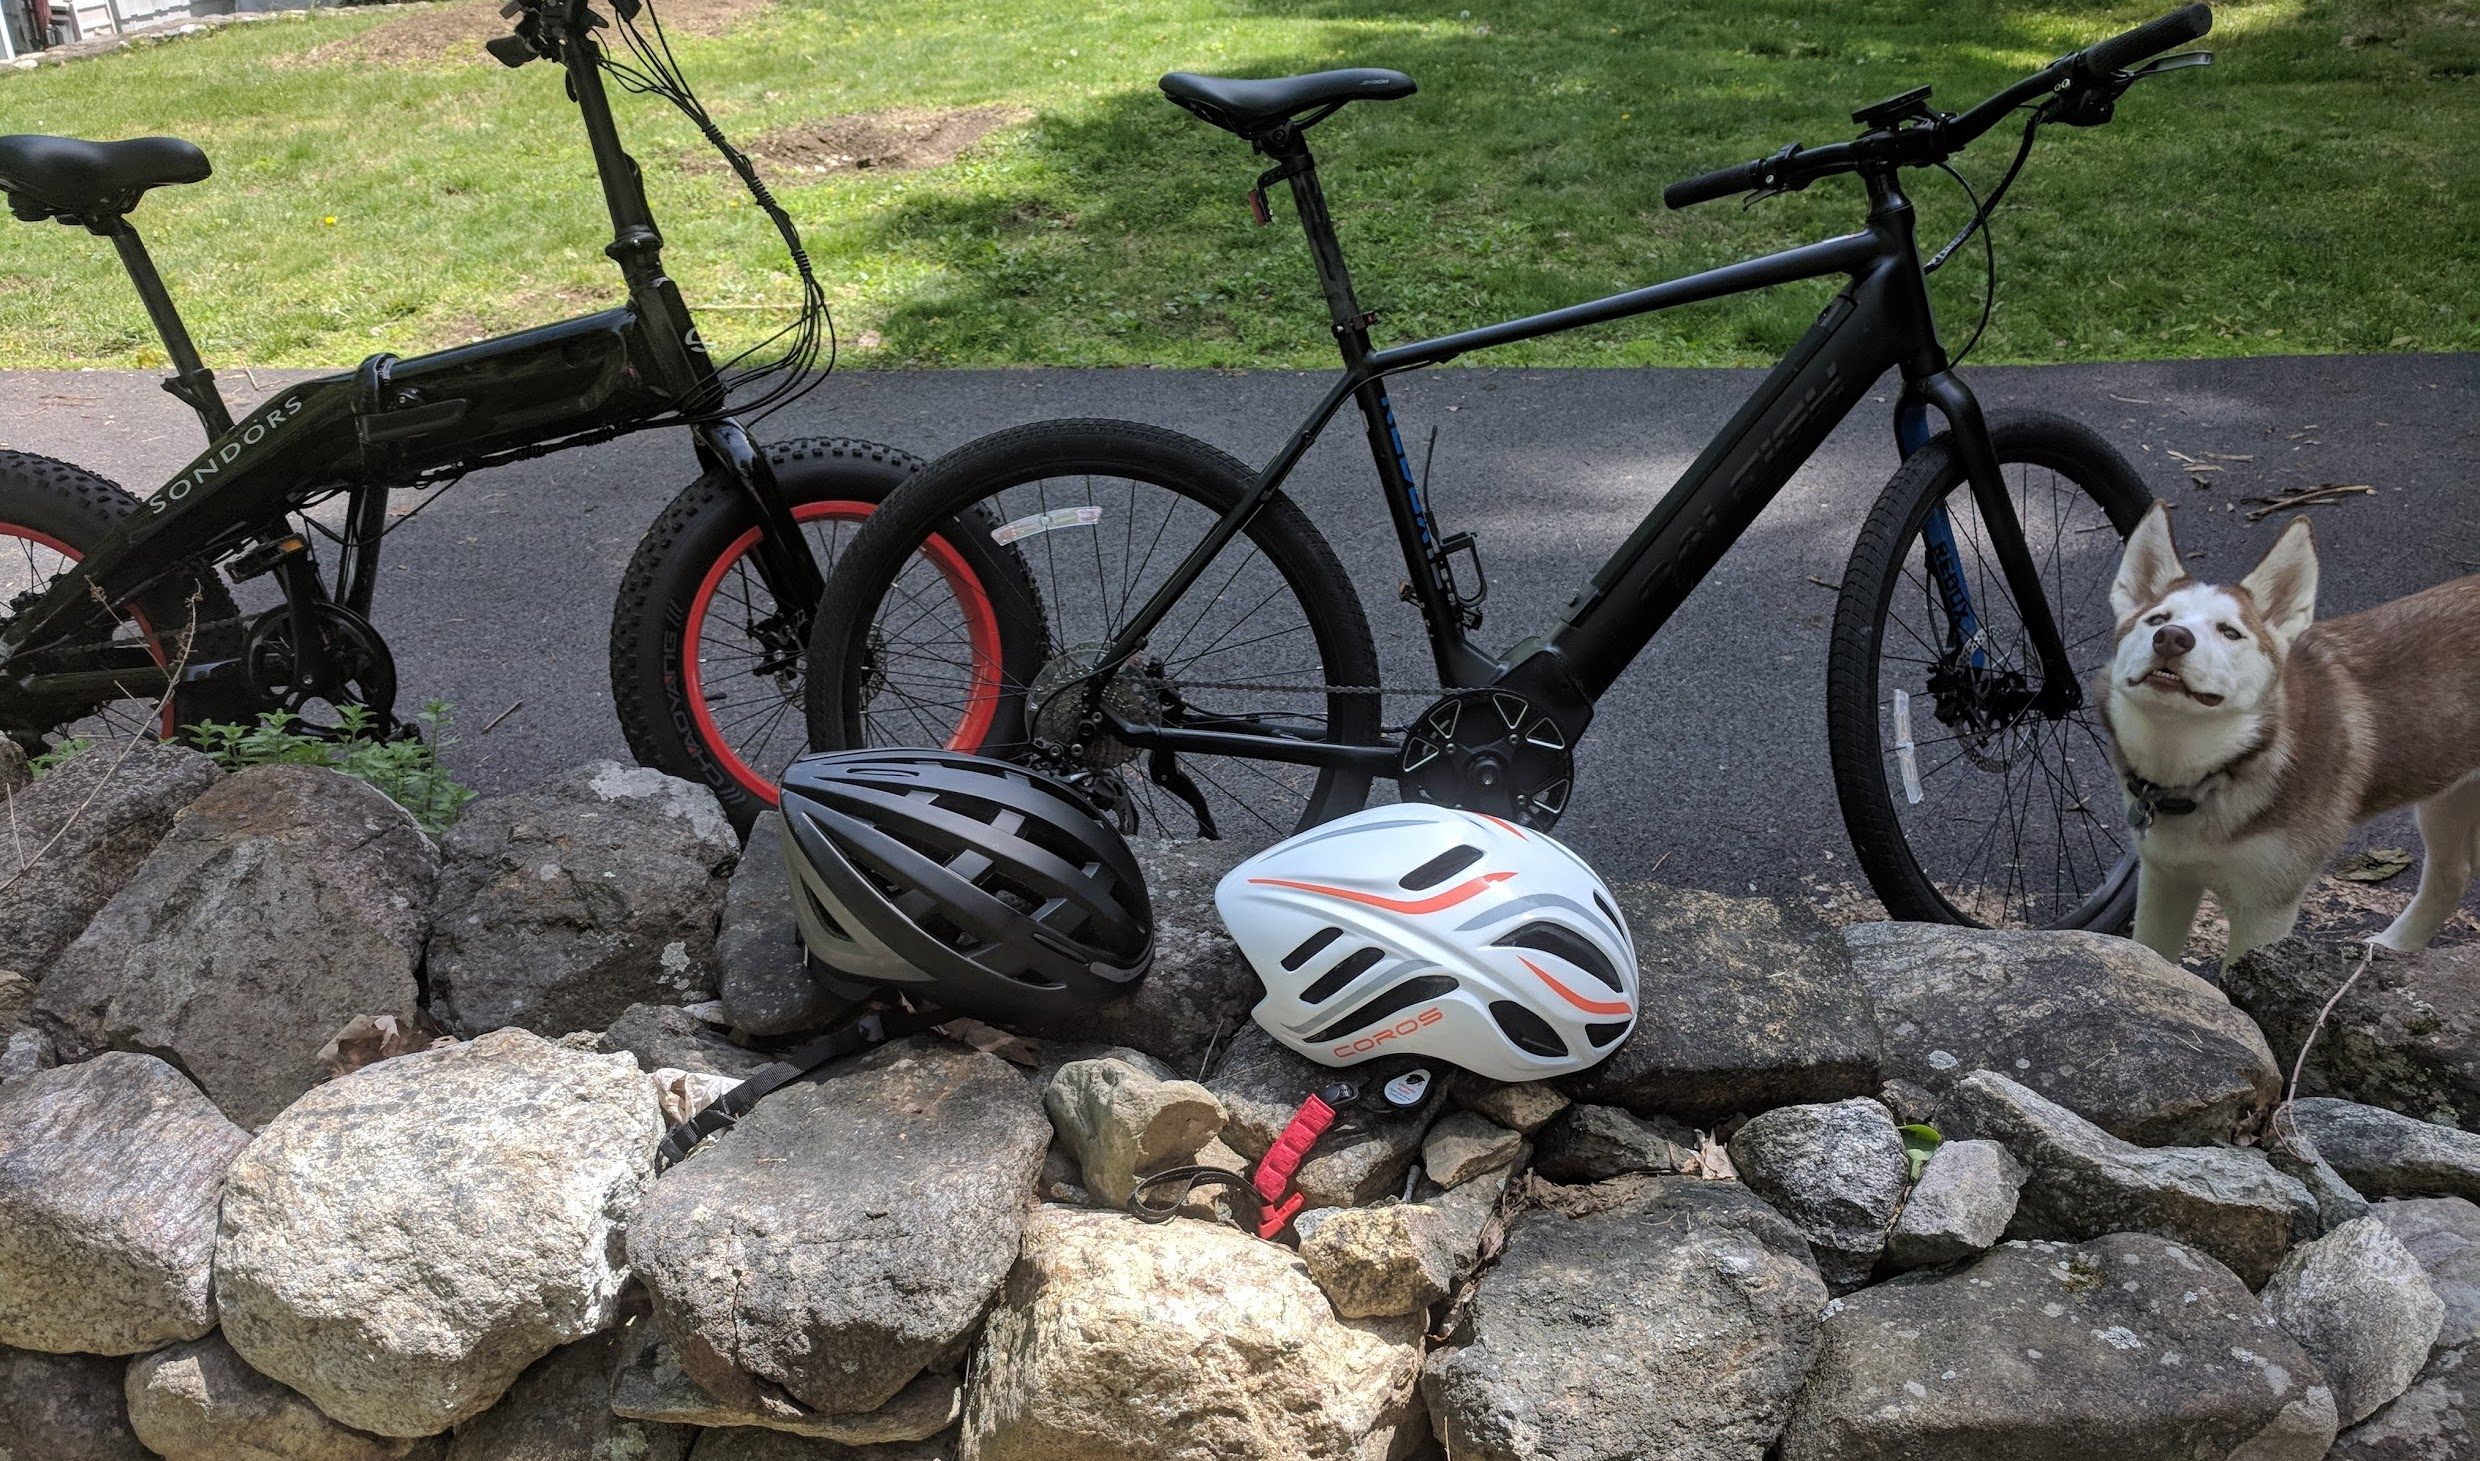with_helmet: (1210, 795, 1649, 1097), (762, 744, 1169, 1035)
